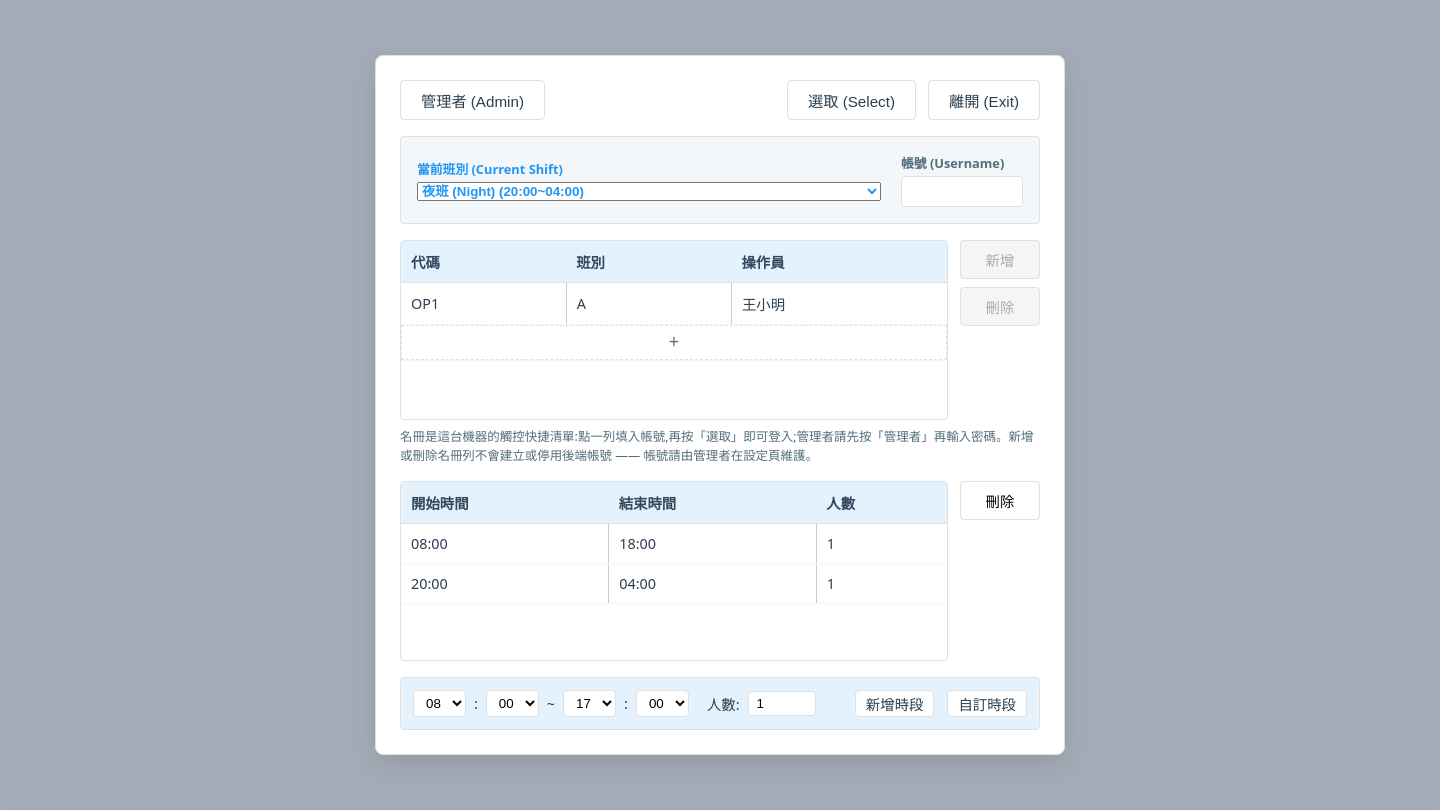
Test: 登入後輪廓的 name / role / shift(S5 狀態列回歸) › 點選名冊列登入後,name / role / shift 皆非空,且 shift 為該列的班別代碼
The width and height of the screenshot is (1440, 810).
Step 1. Click the text "王小明" → (839, 303), box left=731, top=282, right=947, bottom=324
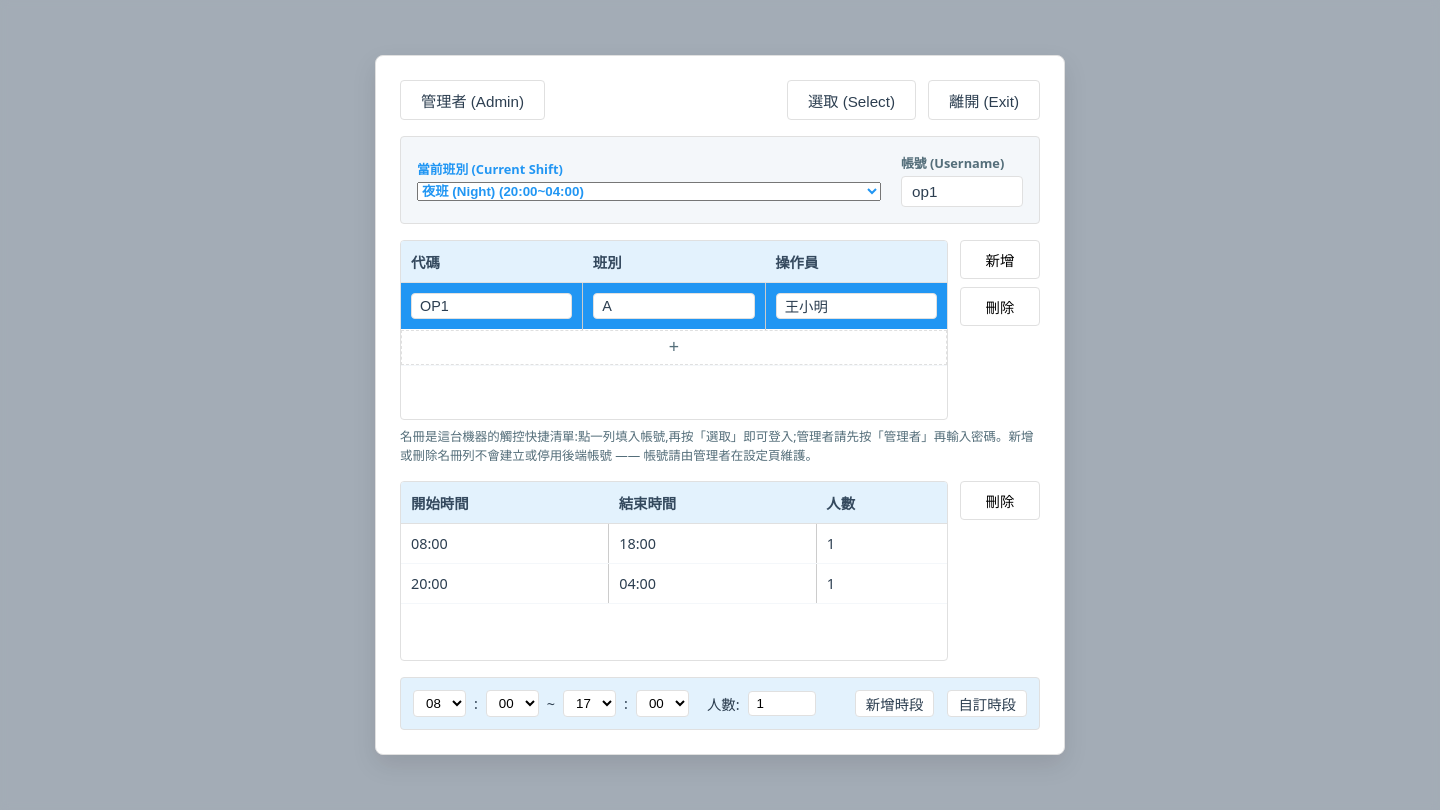
Step 2. Click the button "選取 (Select)" → (851, 100), box left=787, top=80, right=916, bottom=120
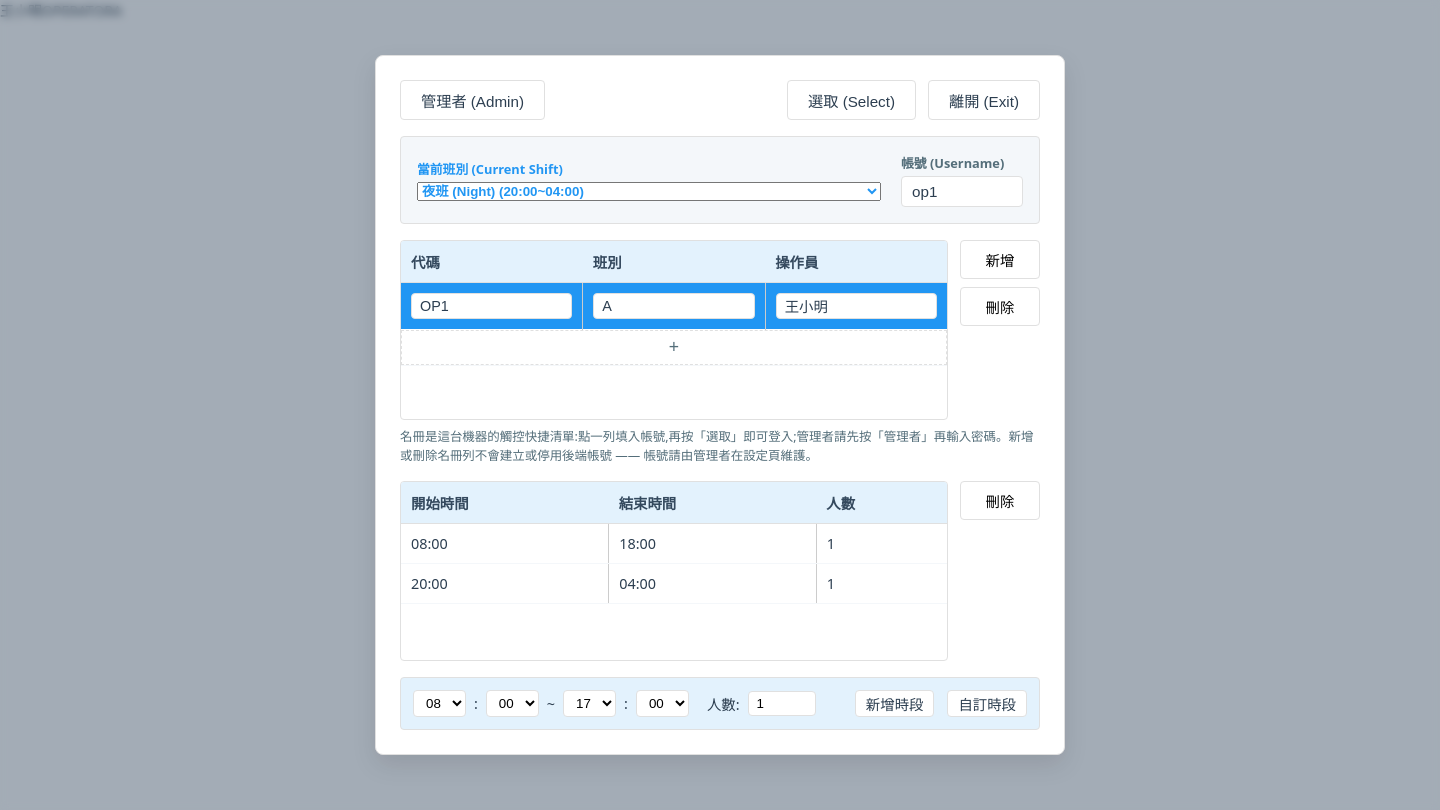
Expected: the text with test id "p-name" reads "王小明", left=0, top=1, right=42, bottom=20
Expected: the text with test id "p-role" reads "OPERATOR", left=42, top=1, right=113, bottom=20
Expected: the text with test id "p-shift" reads "A", left=113, top=1, right=122, bottom=20
